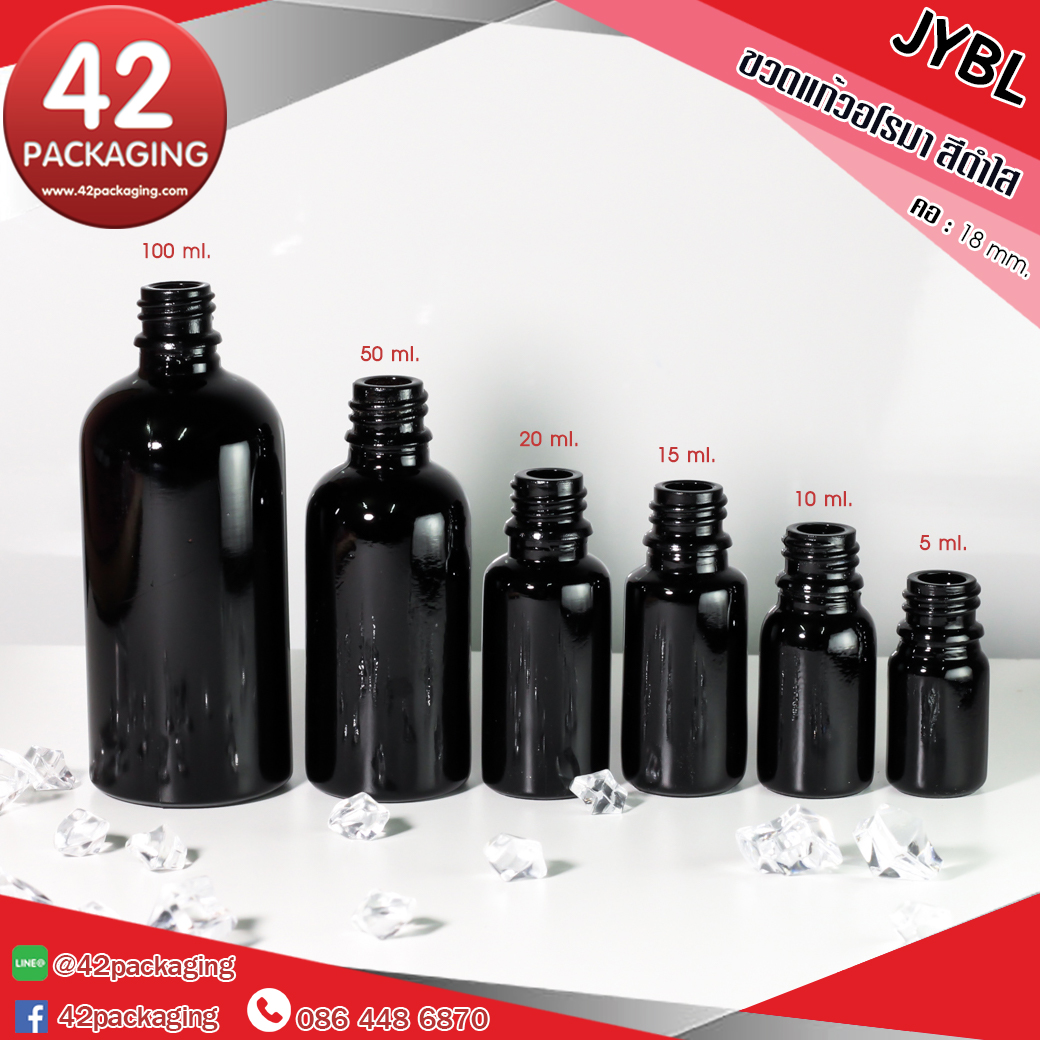glass_bottle: (58, 272, 302, 811), (305, 359, 475, 817), (481, 467, 613, 804), (621, 477, 753, 803), (757, 515, 882, 807), (887, 565, 994, 804)
